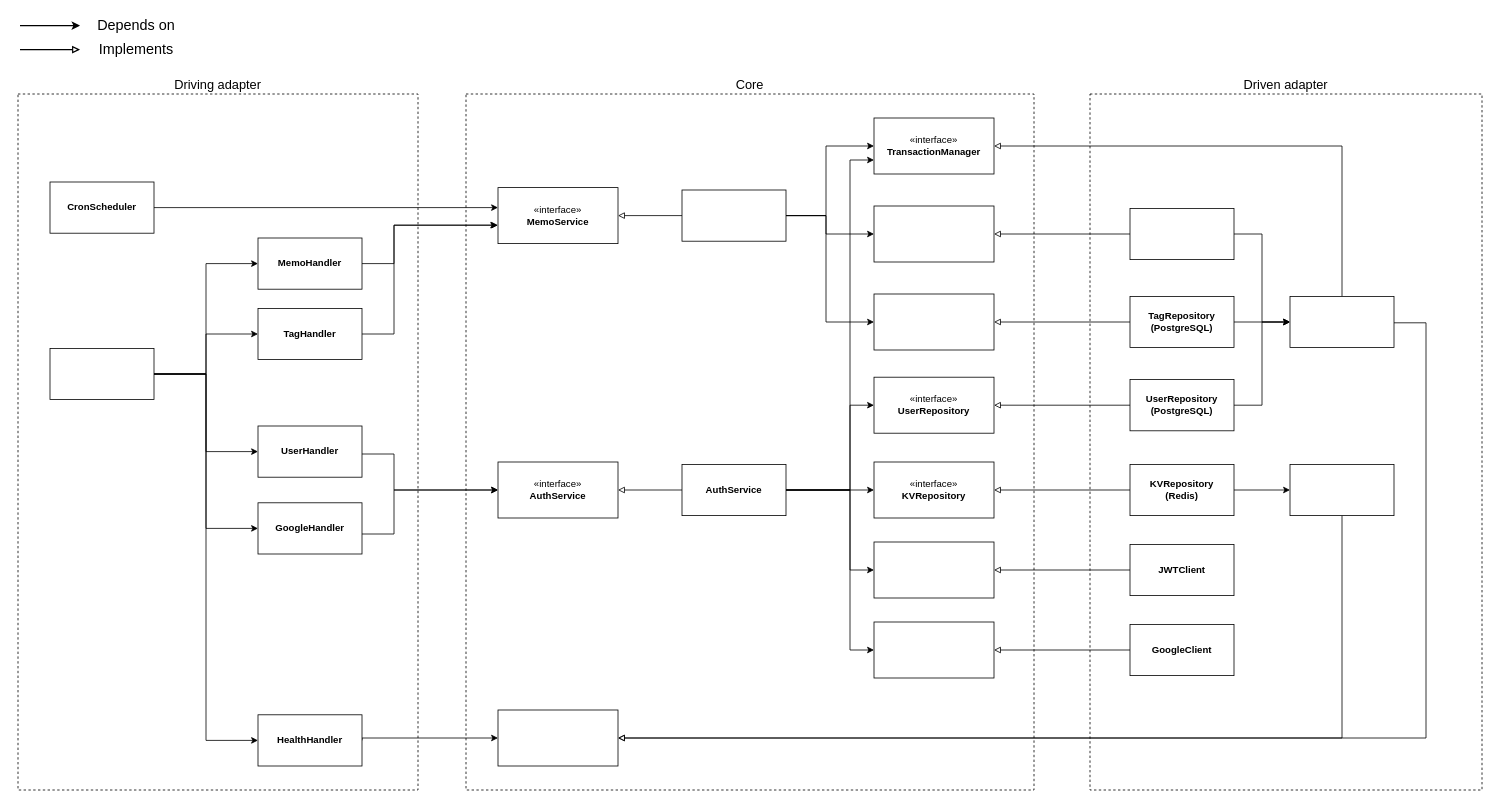
The diagram is 1496 pixels wide and 804 high, and some of its shapes have lost their labels. The shapes that lost their labels are listed below. From the top down, each one's centre as x and y in pixels, then its label:
point (733, 215): MemoService
point (933, 233): «interface» MemoRepository
point (1181, 234): MemoRepository (PostgreSQL)
point (933, 321): «interface» TagRepository
point (1341, 322): PostgresClient
point (101, 374): HTTPServer
point (1341, 490): RedisClient
point (933, 569): «interface» JWTClient
point (933, 649): «interface» GoogleClient
point (557, 737): «interface» Pinger
